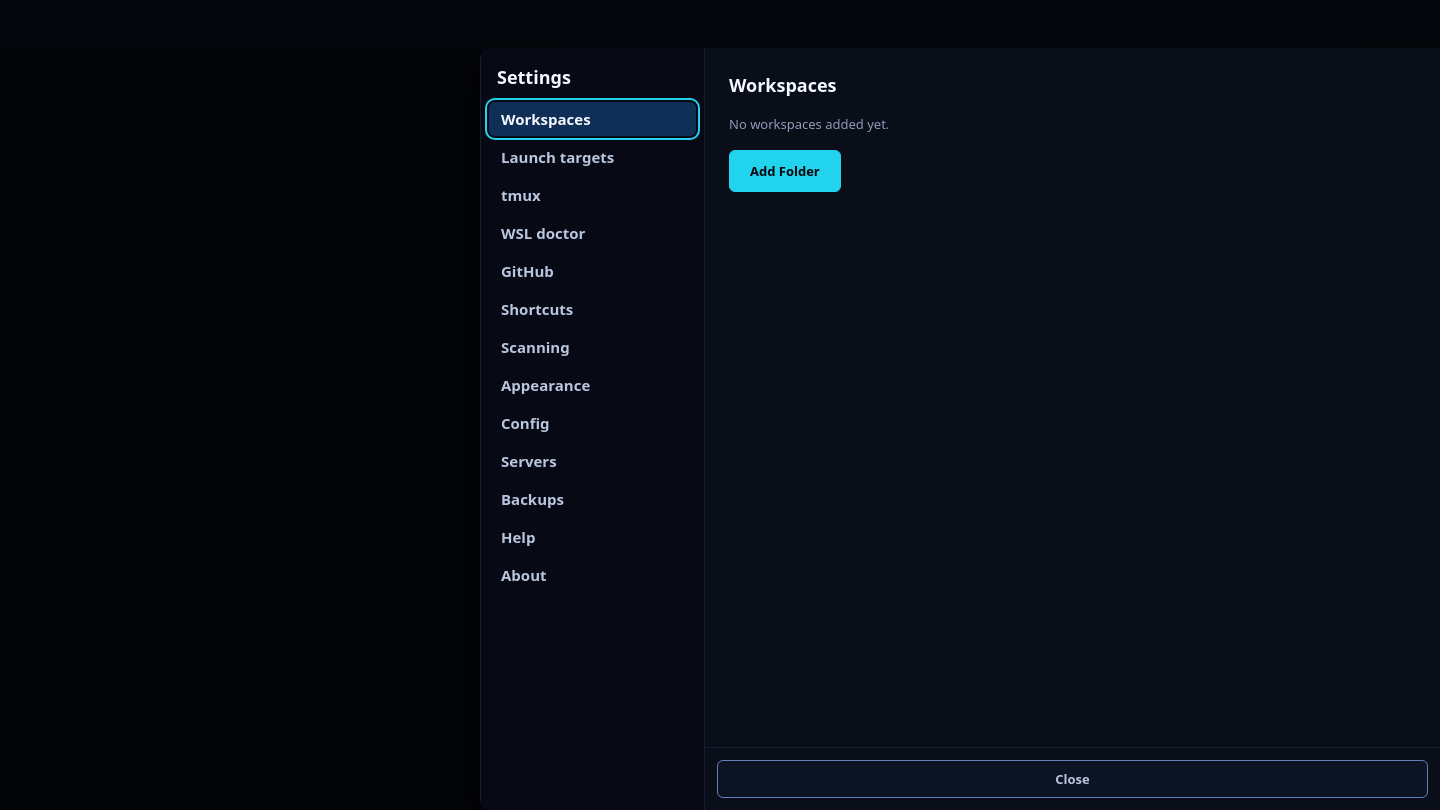
Settings — the scan section of prefs.json is read, not assumed › a read that fails reports it, unlocks the panel, and writes nothing
This screenshot has width=1440, height=810.
Click the button "Scanning": click(592, 347) [489,330,696,364]
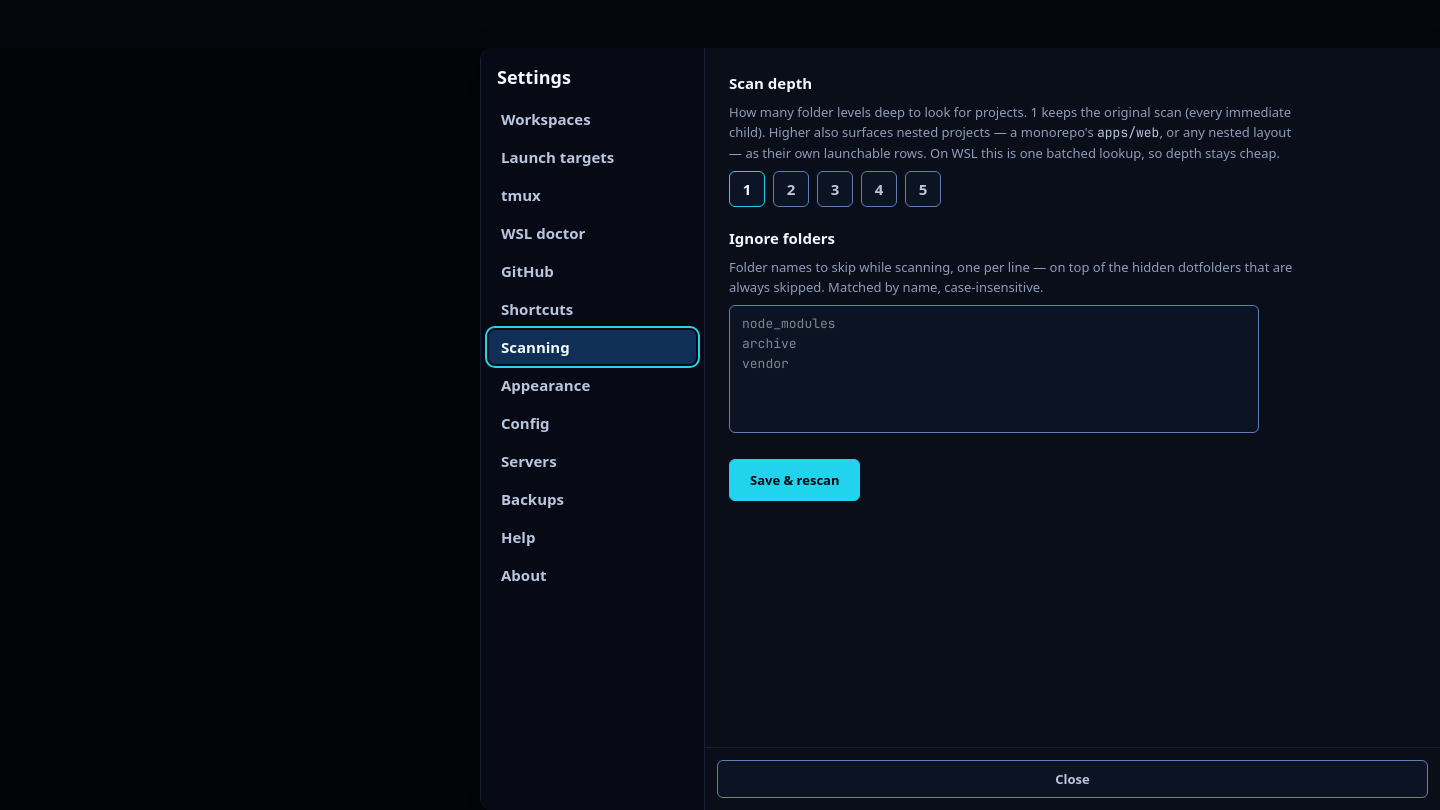
Expected: the text box is empty, [729,305,1259,433]
Expected: the button "Save & rescan" is enabled, [729,459,860,501]
